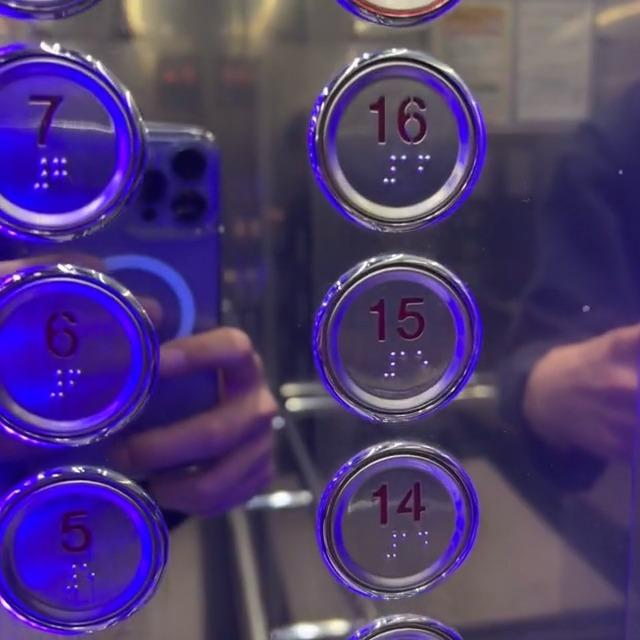button: (315, 57, 467, 226), (0, 49, 140, 225), (307, 261, 469, 411), (0, 266, 143, 430), (333, 453, 488, 585), (0, 477, 140, 616)
